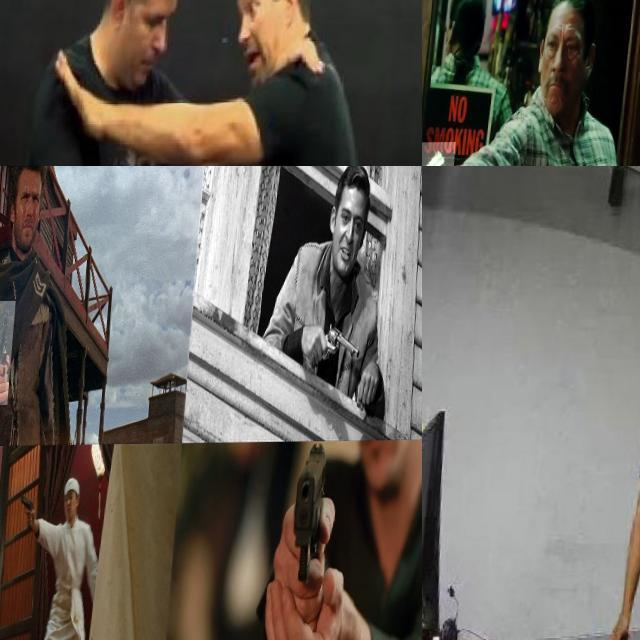gun-knife-thesis - v11 Yolov5 augmented: (270, 441, 357, 640), (308, 310, 366, 381), (0, 301, 18, 405), (422, 142, 459, 166), (23, 490, 43, 530)
